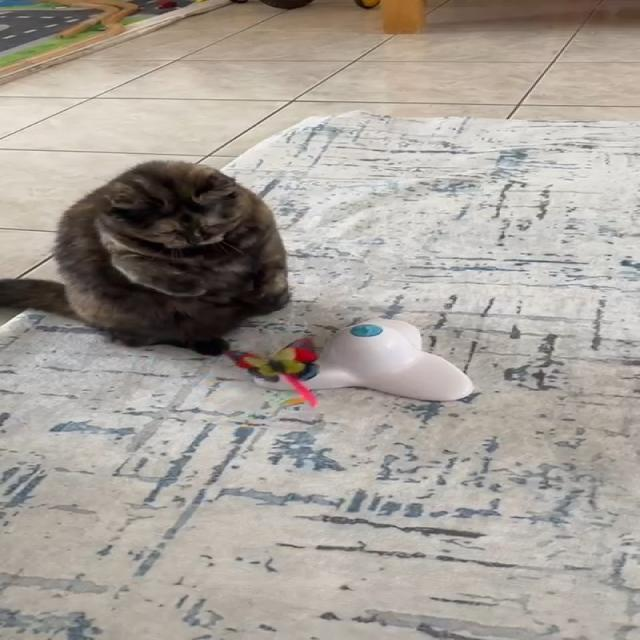authorized: (0, 159, 291, 356)
